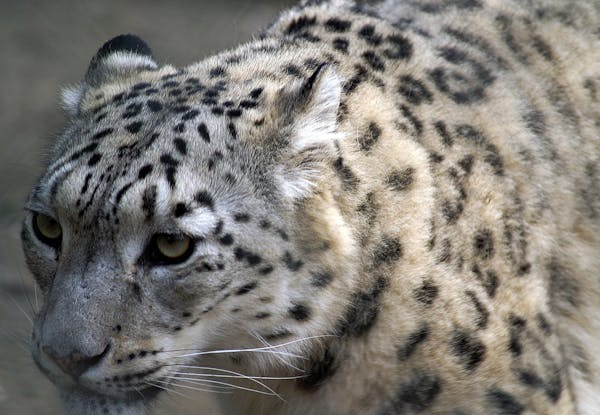Leopard: (20, 1, 600, 415)
